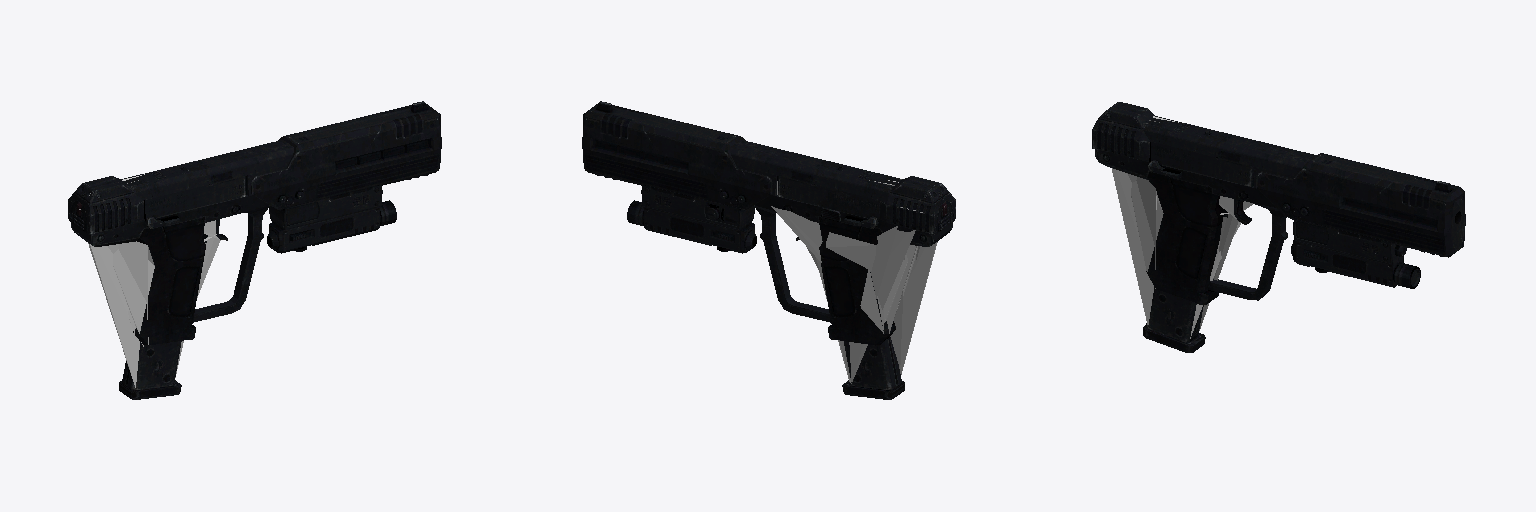
3 views of the same model, side by side, from view 1: azimuth 30°, elevation 25°; view 2: azimuth 150°, elevation 25°; view 3: azimuth 330°, elevation 25° (orthographic).
Parts seen in each view (by area): view 1: analytical_specular_contribution_detail_map_overlay1, flashlight; view 2: analytical_specular_contribution_detail_map_overlay1, flashlight; view 3: analytical_specular_contribution_detail_map_overlay1, flashlight.
Boxes of the visible parts, x1=… form: analytical_specular_contribution_detail_map_overlay1: x1=68, y1=101, x2=441, y2=399; flashlight: x1=79, y1=174, x2=220, y2=387; analytical_specular_contribution_detail_map_overlay1: x1=582, y1=101, x2=955, y2=399; flashlight: x1=771, y1=180, x2=937, y2=383; analytical_specular_contribution_detail_map_overlay1: x1=1092, y1=102, x2=1465, y2=352; flashlight: x1=1112, y1=116, x2=1252, y2=338.
Bounding box in the file's own units: 14.36 × 8.69 × 1.85.
Materials: 3 (2 with a texture image).